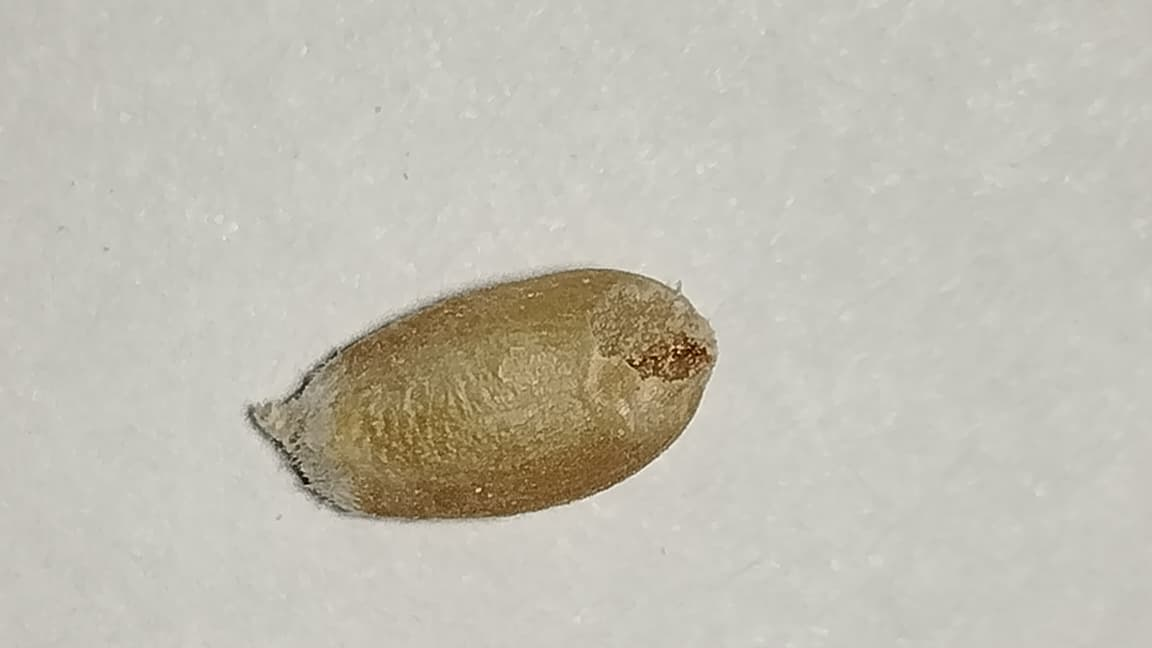damage: (252, 271, 715, 517)
insectdamage: (589, 273, 717, 400)
molddamage: (241, 347, 377, 522)
